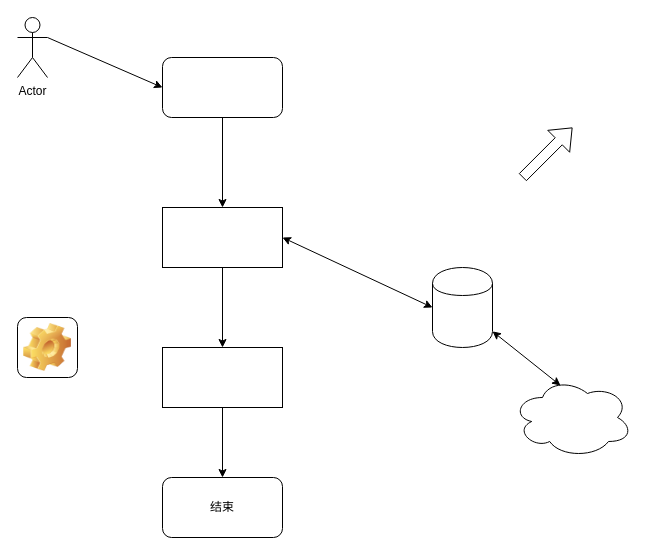
Some shapes in this 650 by 555 pixel diagram are drawn without their labels. Each missing label, with the box of its shape:
Icon: (16, 316, 78, 378)
开始: (162, 56, 282, 118)
